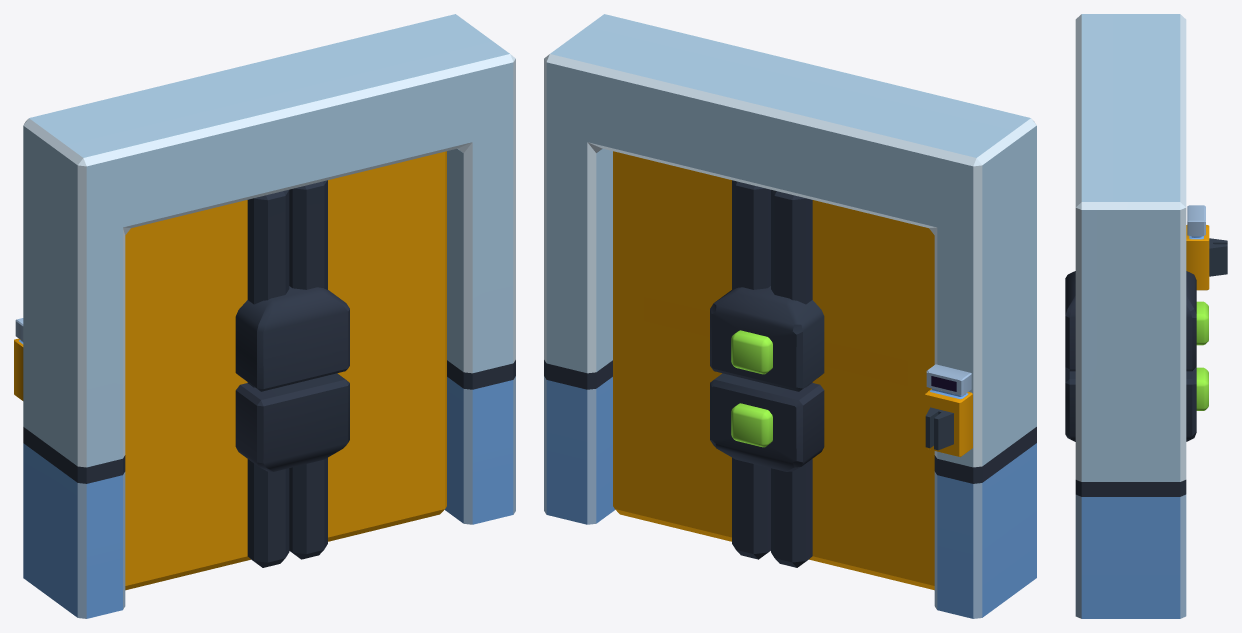
The model's file is DoorKeycardGreen.fbx.
3 renders of one model, left to right at view 1: azimuth 30°, elevation 25°; view 2: azimuth 150°, elevation 25°; view 3: azimuth 270°, elevation 25°, orthographic. The views are drawn at different scales.
Visible parts, largest first — view 1: DoorKeycardGreen_; view 2: DoorKeycardGreen_; view 3: DoorKeycardGreen_.
Part boxes in pixels (x1=…): DoorKeycardGreen_: x1=14, y1=14, x2=515, y2=618; DoorKeycardGreen_: x1=544, y1=14, x2=1036, y2=618; DoorKeycardGreen_: x1=1065, y1=14, x2=1227, y2=618.
Size of the model in its own units: 1.48 by 1.5 by 0.5275.
